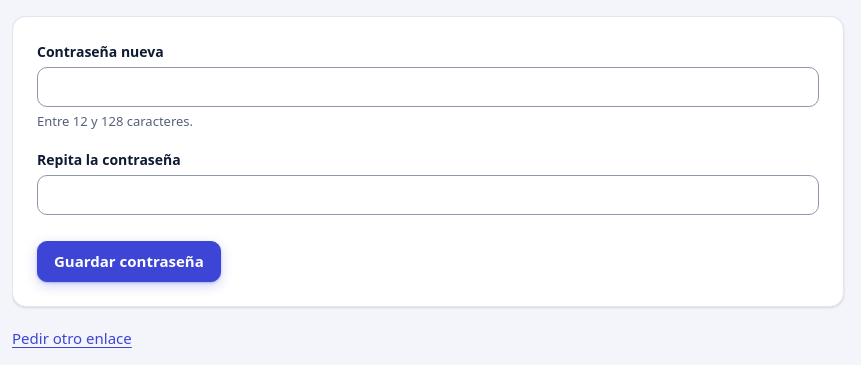
Elegir una contraseña nueva › sends the new password with the link's code and says every session was closed
This screenshot has width=861, height=365.
In the password field labelled "Contraseña nueva": (428, 87) [37, 67, 819, 107], type "la contraseña nueva"
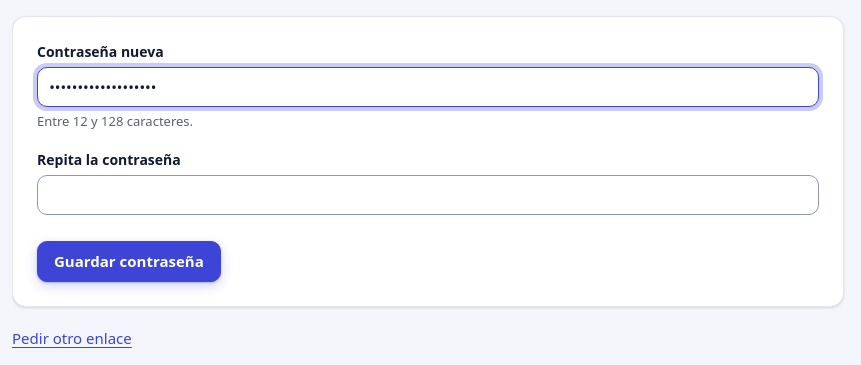
In the password field labelled "Repita la contraseña": (428, 195) [37, 175, 819, 216], type "la contraseña nueva"
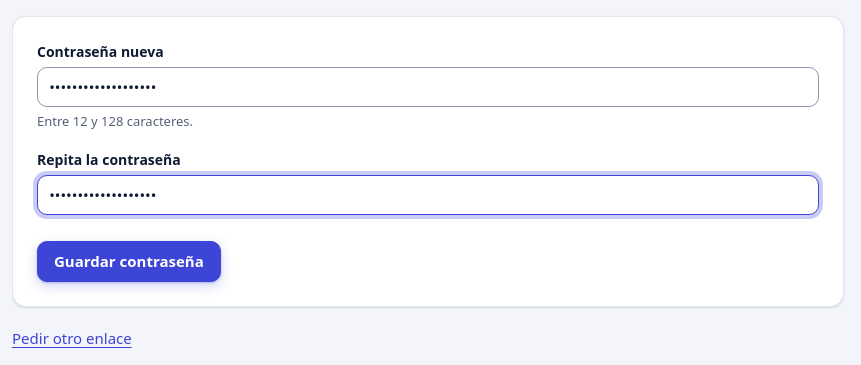
Click the button "Guardar contraseña": (129, 261) [37, 241, 221, 282]
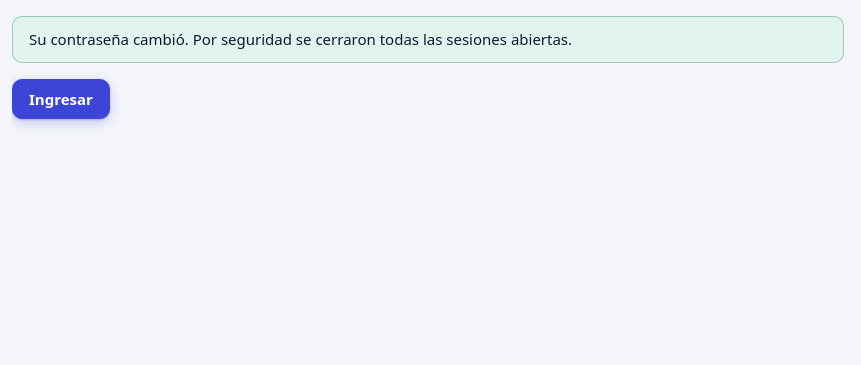
Result: the message shows "Su contraseña cambió" at [29, 29, 572, 49]
